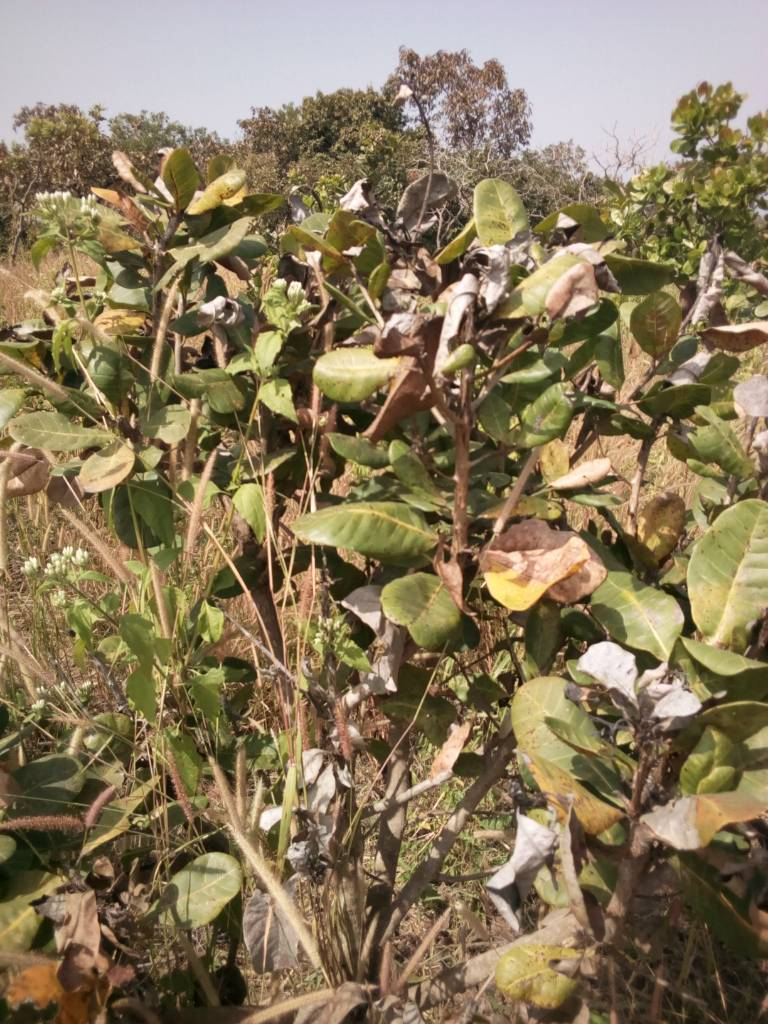Die-black: (383, 153, 468, 264), (149, 283, 269, 355), (533, 249, 618, 347), (363, 302, 454, 364)
